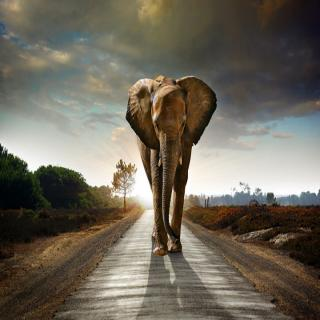Elephant: (125, 68, 218, 263)
